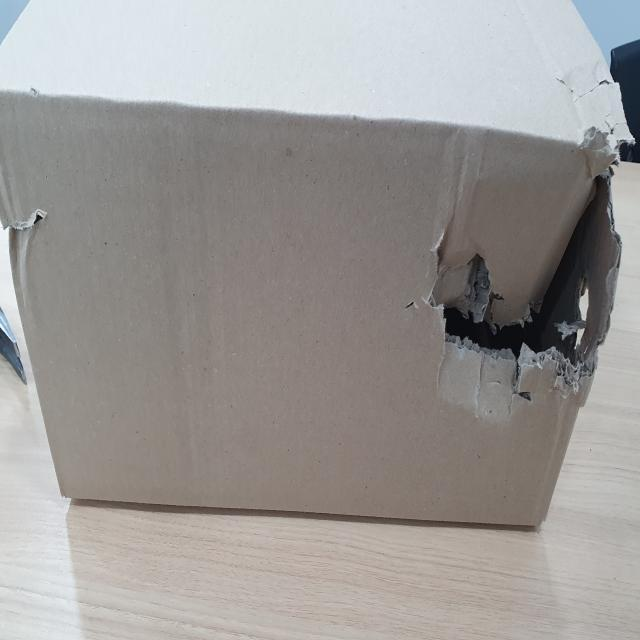hole: (430, 100, 622, 412)
